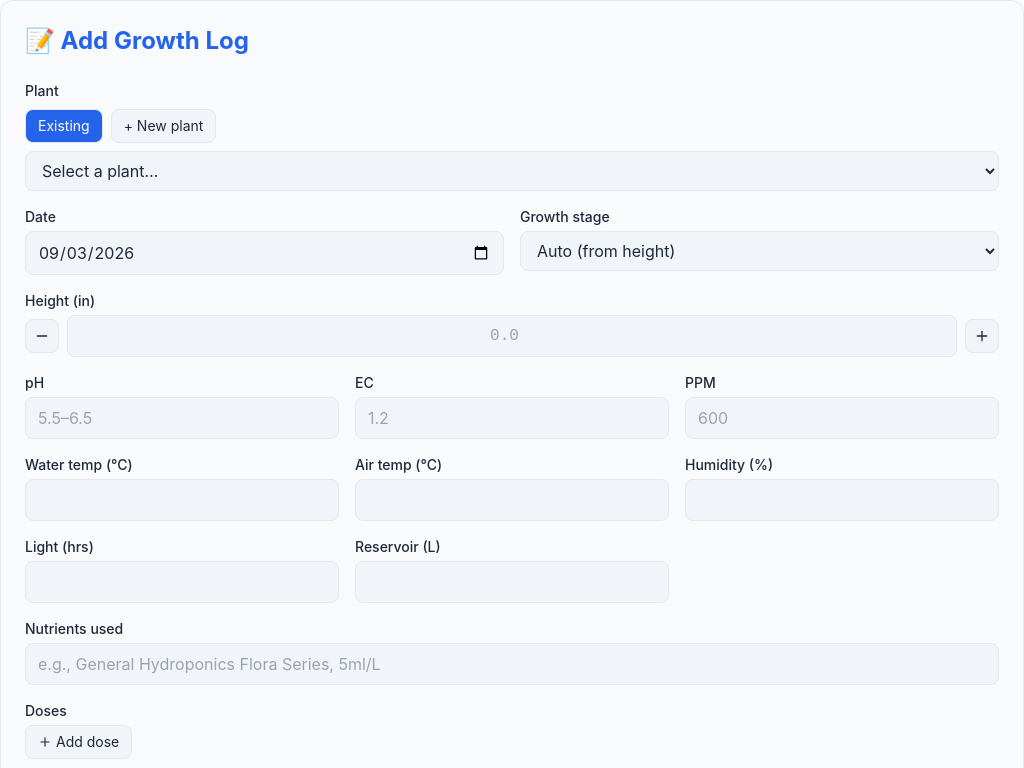
Test case: AddLogForm (MR-25) › Clear button empties the field and removes the draft key
The image size is (1024, 768).
Type "draft text" into the field with placeholder "e.g., General Hydroponics Flora Series, 5ml/L" at (512, 664), box [25,643,999,685]
(page scrolled)
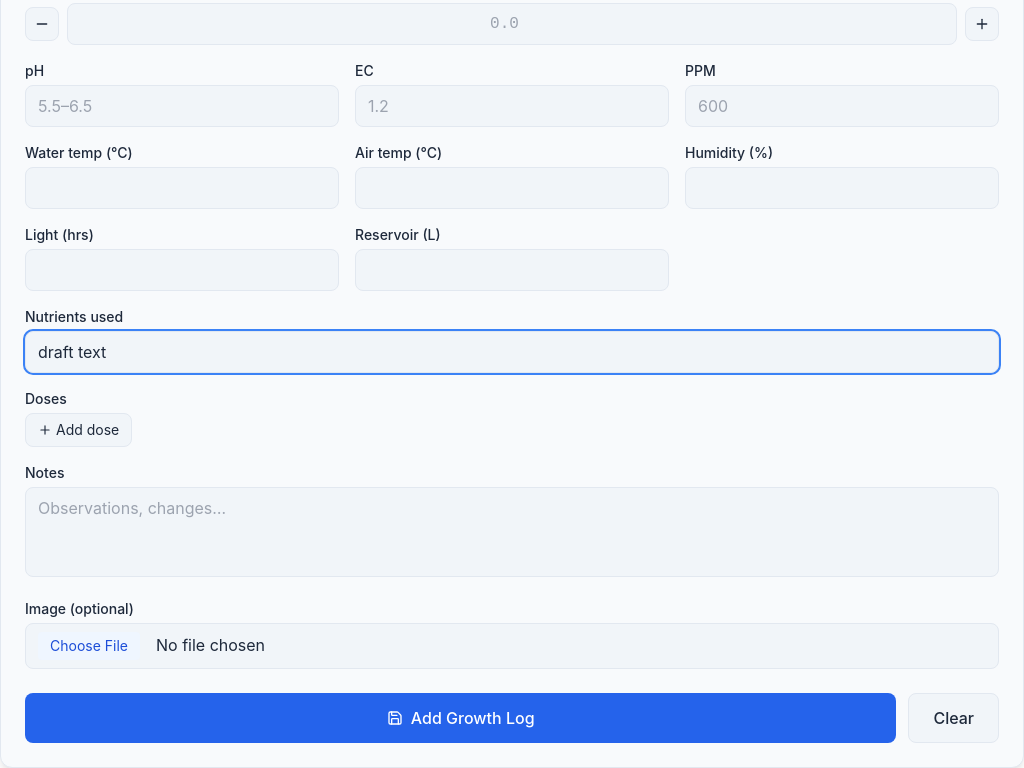
Click the button "Clear" at (954, 718), box [908,693,999,743]
(page scrolled)
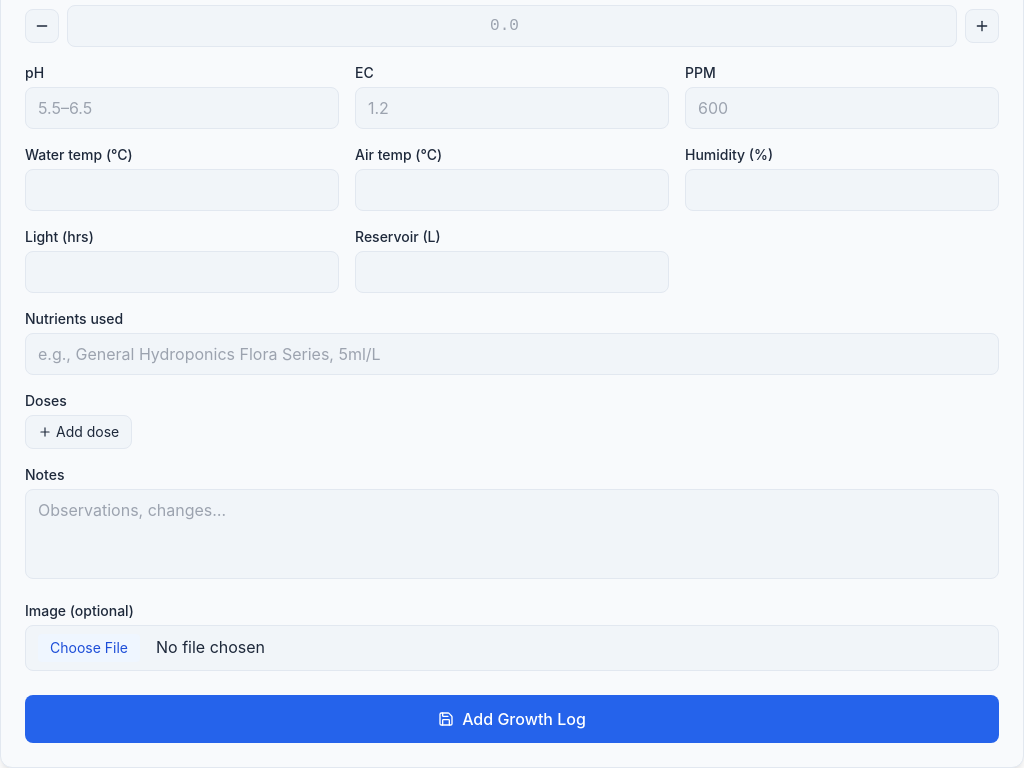
Check: the field with placeholder "e.g., General Hydroponics Flora Series, 5ml/L" is empty, box [25,333,999,375]
